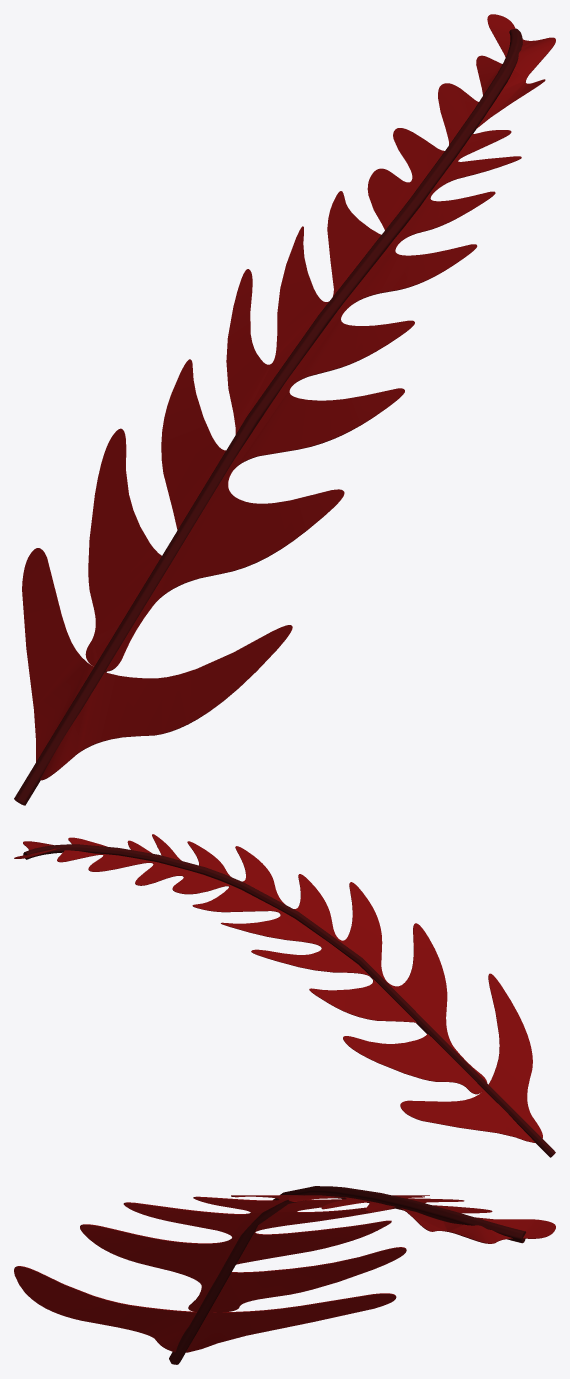
File: blutfarn-2.fbx
3 views of the same model, one above another, from view 1: azimuth 30°, elevation 25°; view 2: azimuth 150°, elevation 25°; view 3: azimuth 270°, elevation 25° (orthographic). The views are drawn at different scales.
Parts seen in each view (by area): view 1: BF_a; view 2: BF_a; view 3: BF_a.
Part boxes in pixels (x1,y1,x2,y2): BF_a: (14, 14, 555, 805); BF_a: (14, 834, 555, 1157); BF_a: (14, 1186, 555, 1364).
Bounding box in the file's own units: 114 × 73.76 × 81.35.
